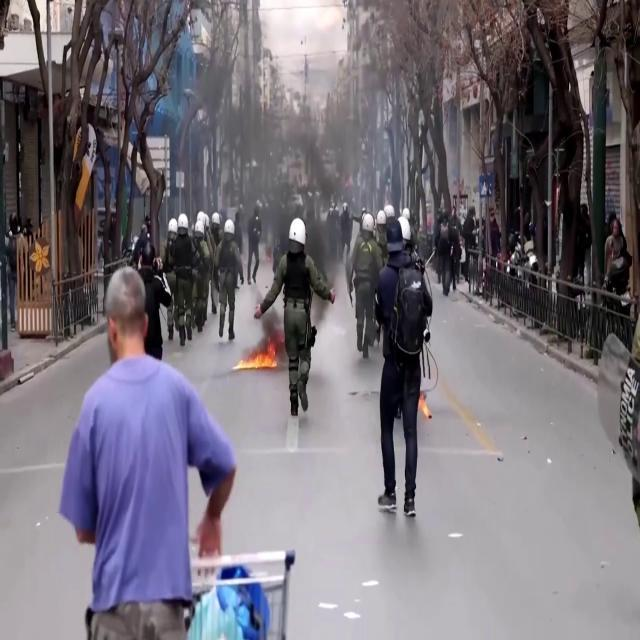Fire: (238, 339, 276, 376)
Smoke: (174, 8, 388, 260)
